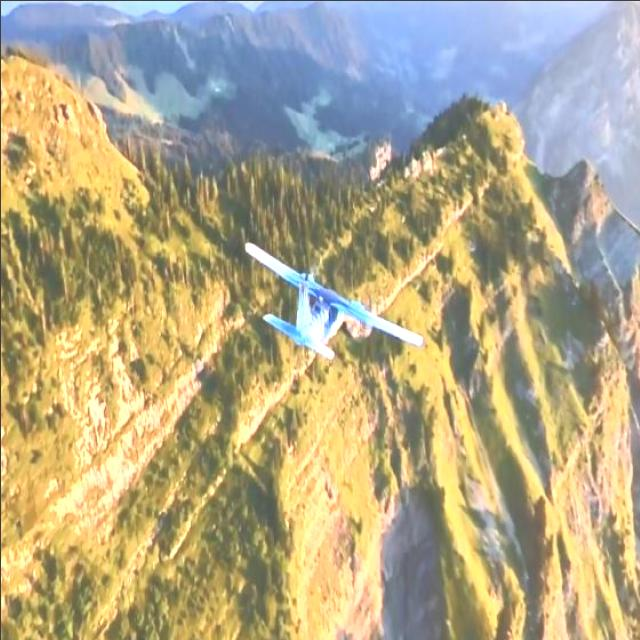plane: (244, 239, 426, 360)
